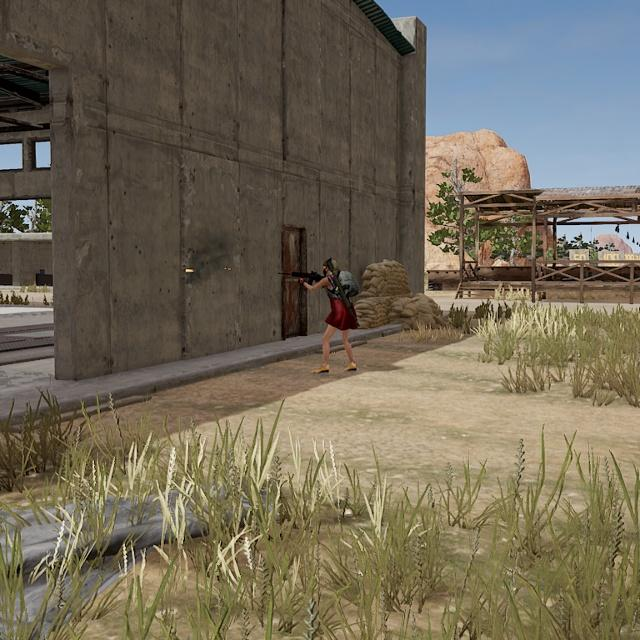head: (321, 258, 338, 277)
people: (311, 257, 359, 373)
